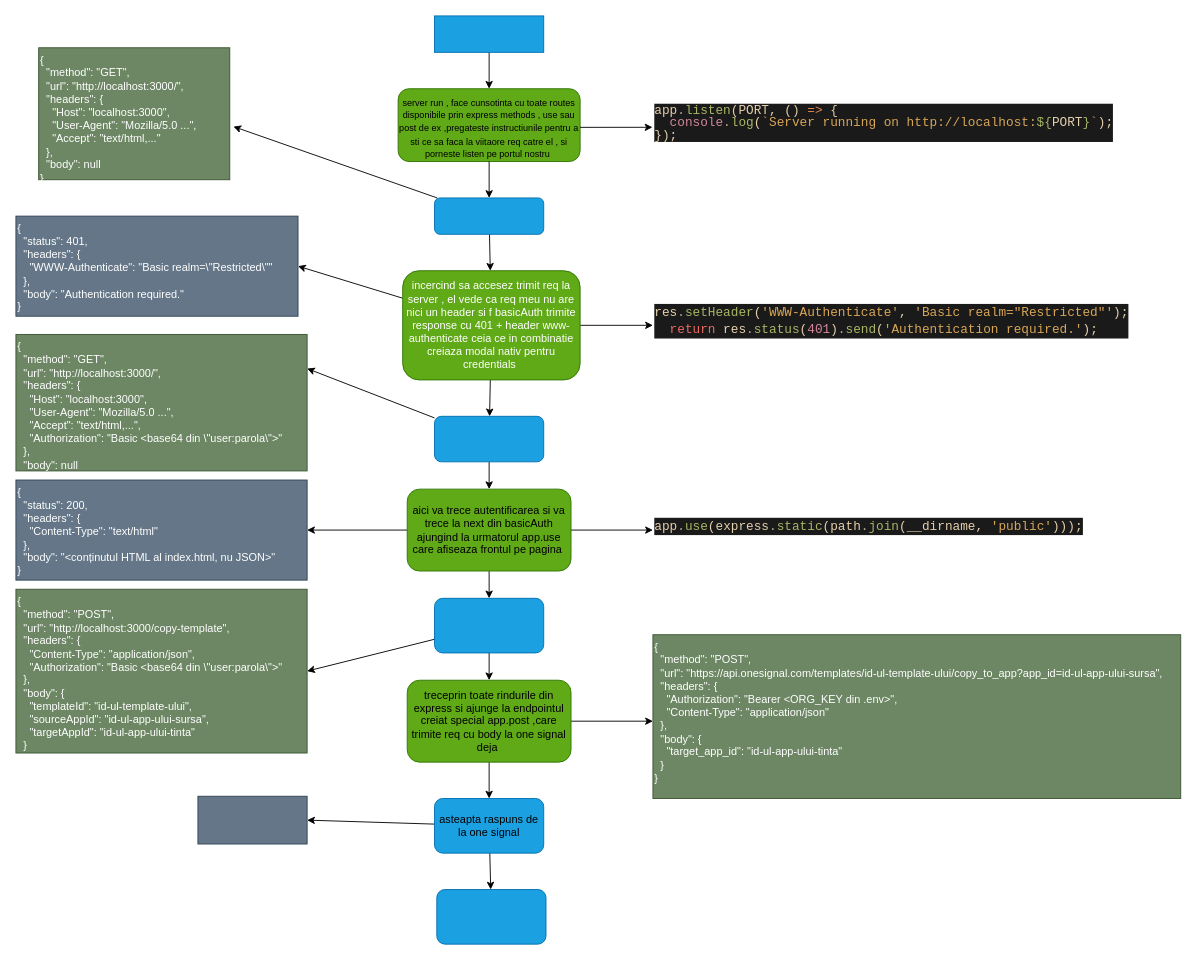
The diagram is 1197 pixels wide and 960 high, and some of its shapes have lost their labels. Here are the shapes that lost their labels. From the top down, the centre of each, then its label:
(489,33): npm start
(489,215): localhost:PORT
(489,438): inseram datele si retrimitem alt req cu date pentru auth
(489,625): inseram datele in formular si apasam send
(252,819): { "success": true }
(491,916): send the result to front succes or err
